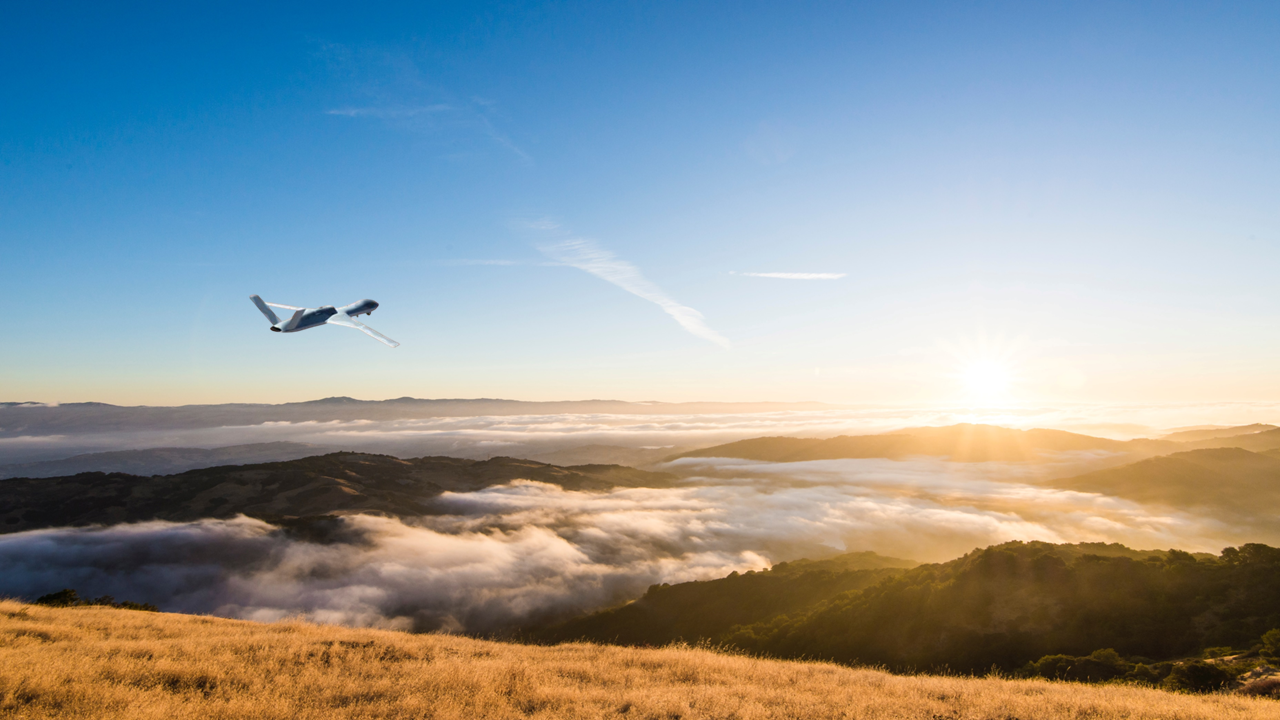military drone: (249, 293, 400, 348)
